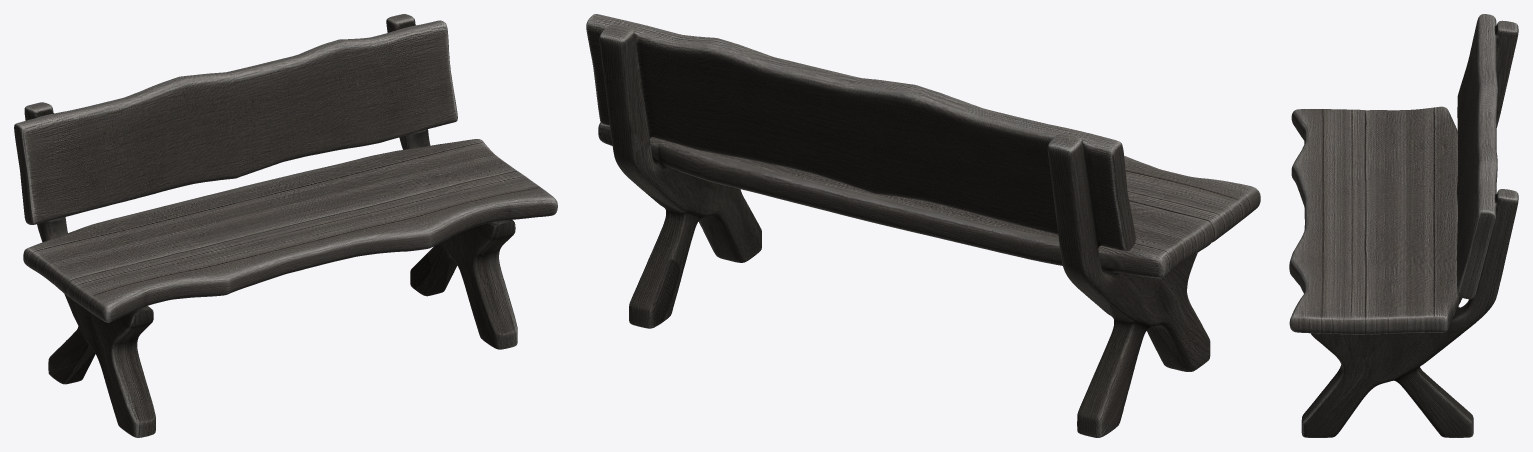
The model's file is prop13.glb.
3 renders of one model, left to right at view 1: azimuth 30°, elevation 25°; view 2: azimuth 150°, elevation 25°; view 3: azimuth 270°, elevation 25°, orthographic. The views are drawn at different scales.
Visible parts, largest first — view 1: mesh_node; view 2: mesh_node; view 3: mesh_node.
Part boxes in pixels (x1=…): mesh_node: x1=14, y1=14, x2=557, y2=437; mesh_node: x1=586, y1=14, x2=1260, y2=437; mesh_node: x1=1289, y1=14, x2=1518, y2=437.
Bounding box in the file's own units: 1.9 × 1.01 × 0.8626.
1 material, 1 textured.
